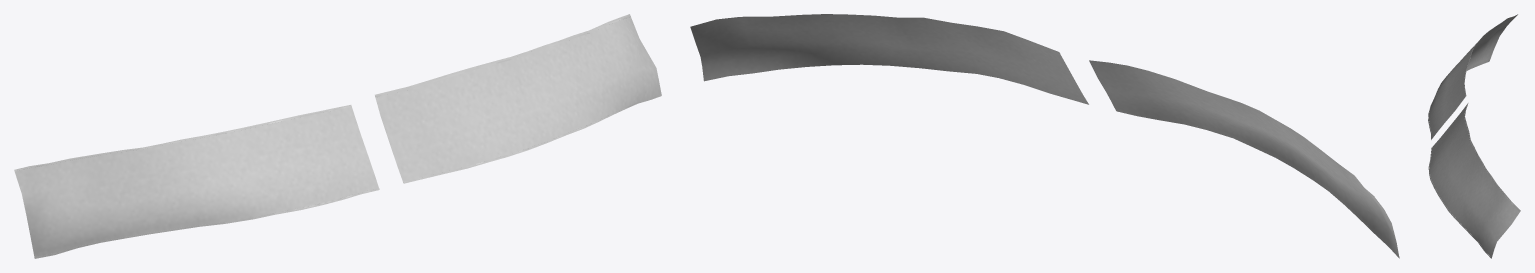
The model's file is COP_Bust_V1.glb.
3 views of the same model, side by side, from view 1: azimuth 30°, elevation 25°; view 2: azimuth 150°, elevation 25°; view 3: azimuth 270°, elevation 25° (orthographic). The views are drawn at different scales.
Parts seen in each view (by area): view 1: COP_Bust_V11, Rope1; view 2: COP_Bust_V11; view 3: COP_Bust_V11, Rope1.
Boxes of the visible parts, x1,y1,x2,y2 form: COP_Bust_V11: (14,14,661,258); Rope1: (14,15,661,257); COP_Bust_V11: (690,14,1399,258); COP_Bust_V11: (1428,14,1520,258); Rope1: (1428,37,1519,257).
Size of the model in its own units: 0.6374 by 0.0975 by 0.1231.
Materials: 2 (2 with a texture image).
